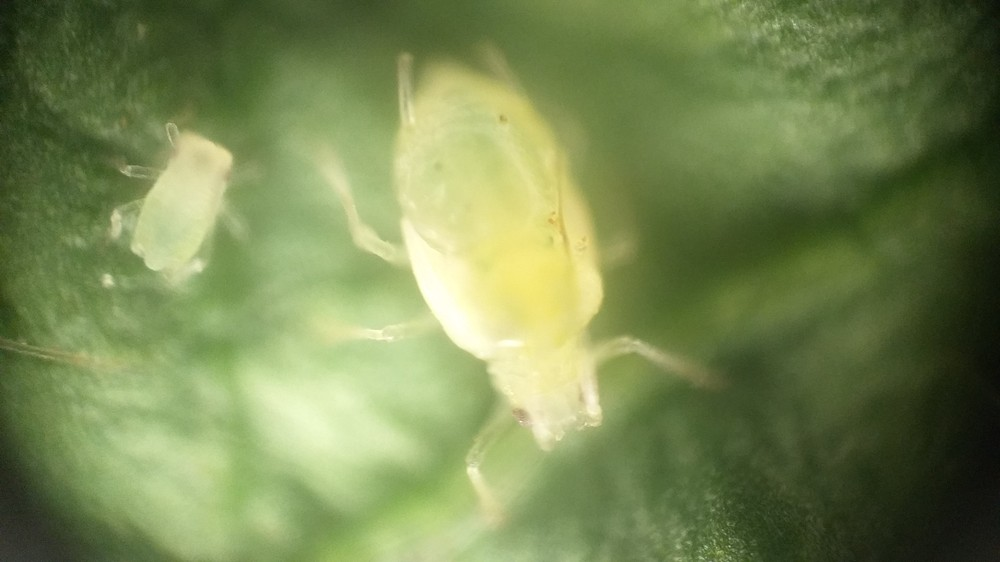Pulgon: (277, 29, 809, 539), (101, 106, 278, 303)
